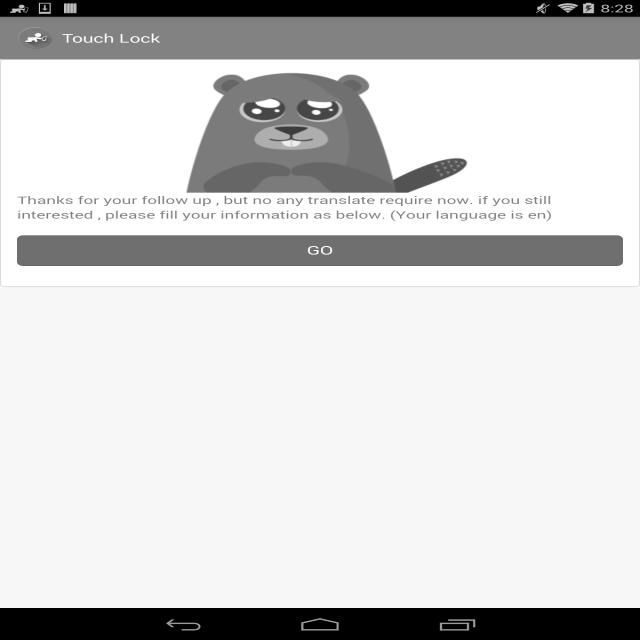Button: (12, 230, 630, 271)
ImageButton: (17, 28, 50, 48)
ImageView: (159, 69, 467, 189)
TextView: (11, 197, 554, 222), (59, 29, 168, 48)
